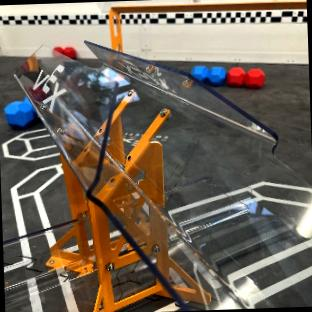Med_goal: (15, 40, 312, 310)
V5_BLUE: (5, 100, 35, 126), (207, 66, 225, 85)
V5_RED: (245, 69, 264, 88), (227, 67, 245, 85), (56, 46, 75, 57)
